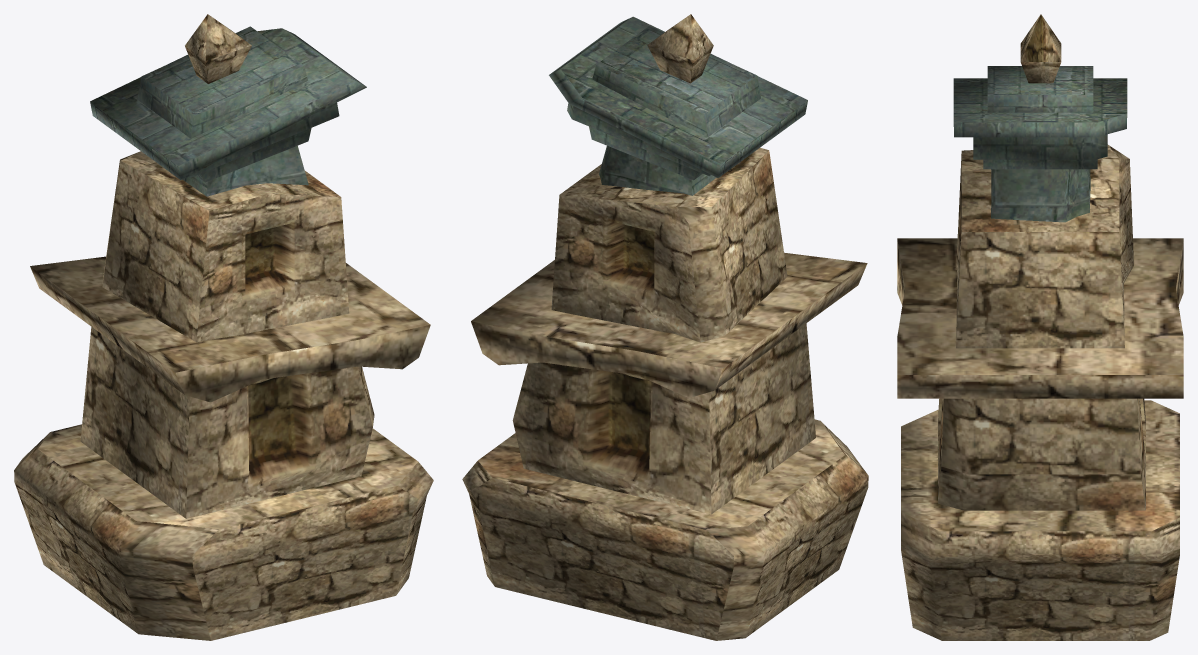
Rendered from environment_common_shideng_003_b.FBX.
The picture shows the model from 3 angles, left to right: view 1: azimuth 30°, elevation 25°; view 2: azimuth 150°, elevation 25°; view 3: azimuth 270°, elevation 25°; orthographic projection.
Parts seen in each view (by area): view 1: environment_common_shideng_003_b; view 2: environment_common_shideng_003_b; view 3: environment_common_shideng_003_b.
Part boxes in pixels (x1,y1,x2,y2): environment_common_shideng_003_b: [14, 14, 433, 640]; environment_common_shideng_003_b: [462, 14, 868, 640]; environment_common_shideng_003_b: [897, 14, 1183, 640].
Size of the model in its own units: 85.72 by 153 by 71.43.
